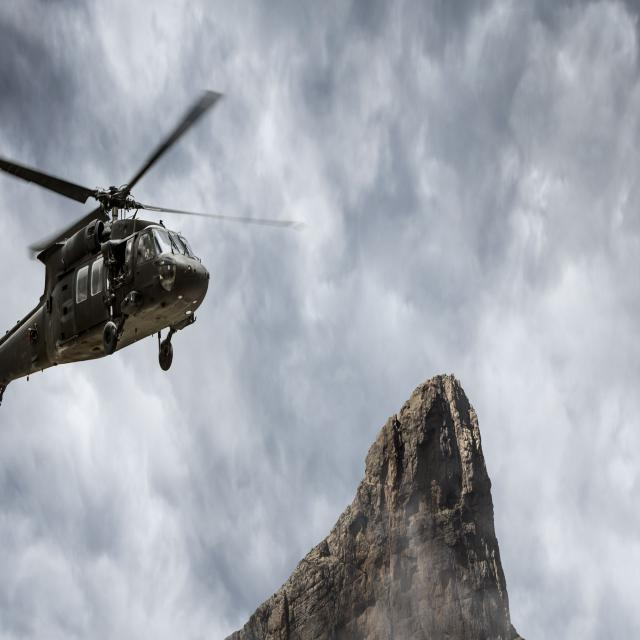helicopter: (1, 64, 303, 445)
